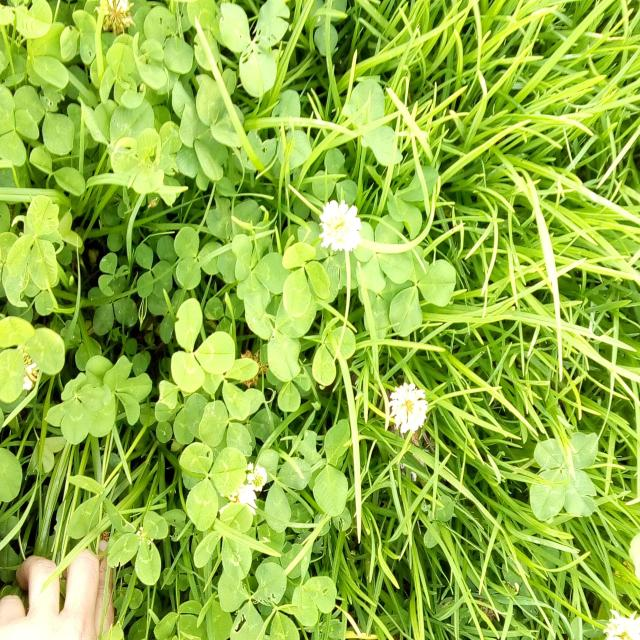Four Leaf Clover: (528, 430, 599, 521), (352, 214, 415, 294), (44, 373, 113, 446)
